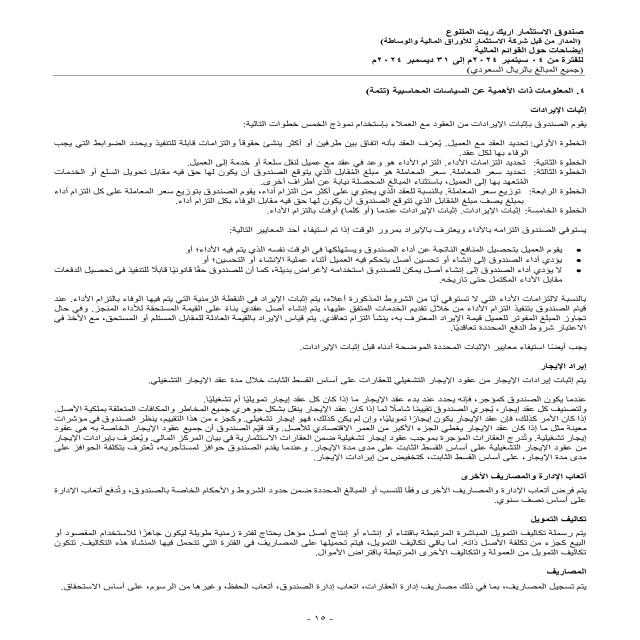notes: (466, 46, 584, 55)
text: (26, 83, 601, 605)
